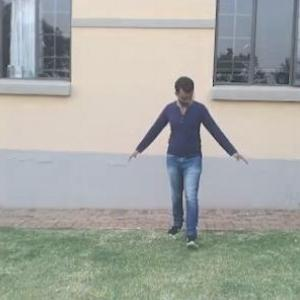land: (113, 56, 250, 258)
